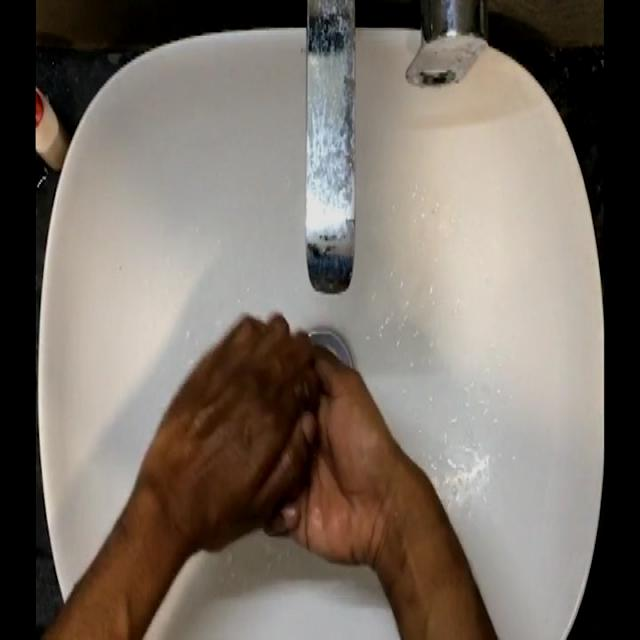step_4: (165, 315, 391, 567)
